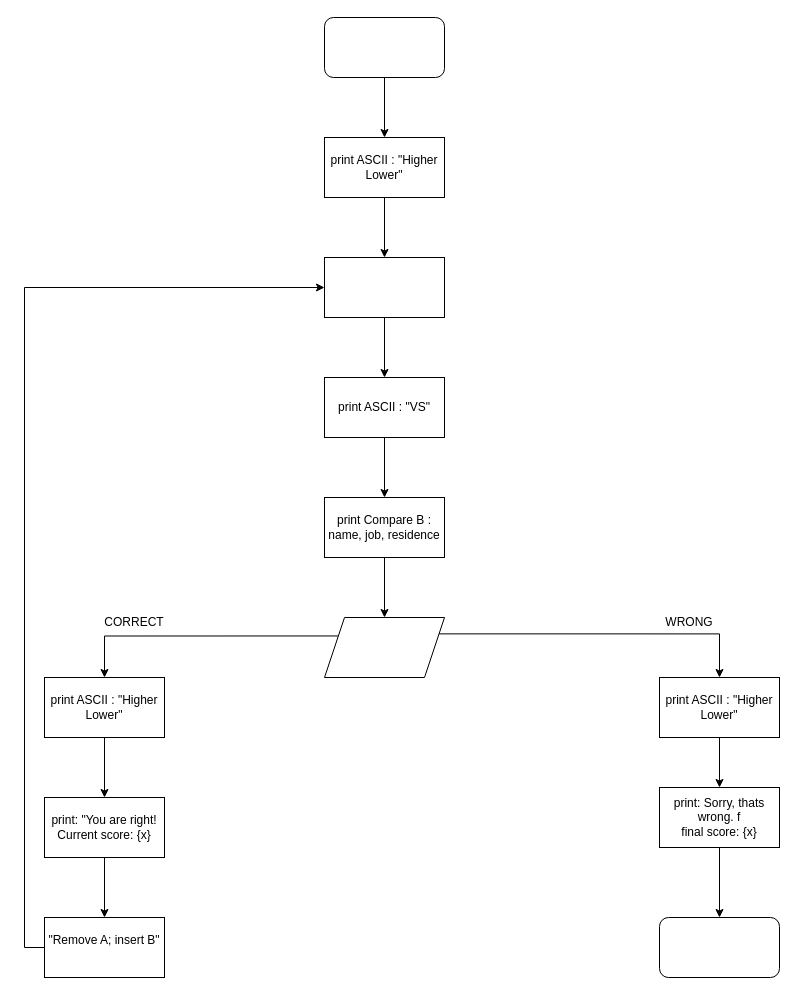
Some shapes in this 797 by 995 pixel diagram are drawn without their labels. Here are the shapes that lost their labels. From the top down, the centre of each, then its label:
pixel 384 47: START GAME
pixel 384 287: print Compare A : name, job, residence
pixel 384 647: Who has more followers ? Type 'a' or 'b'
pixel 719 947: END GAME
